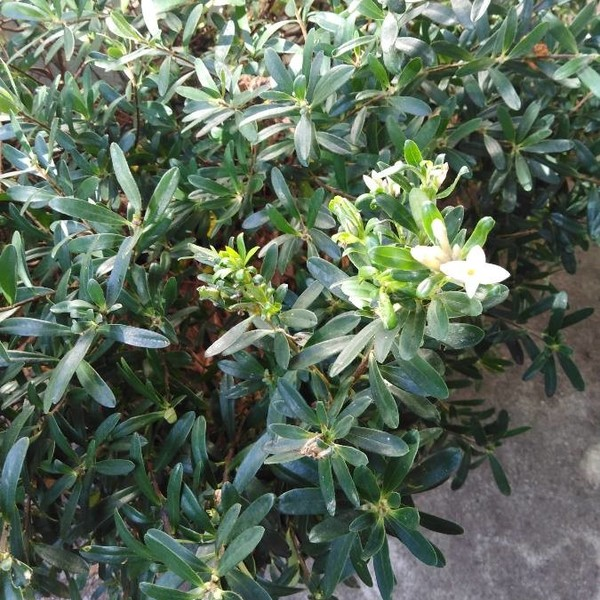obstacle: (36, 48, 473, 549)
